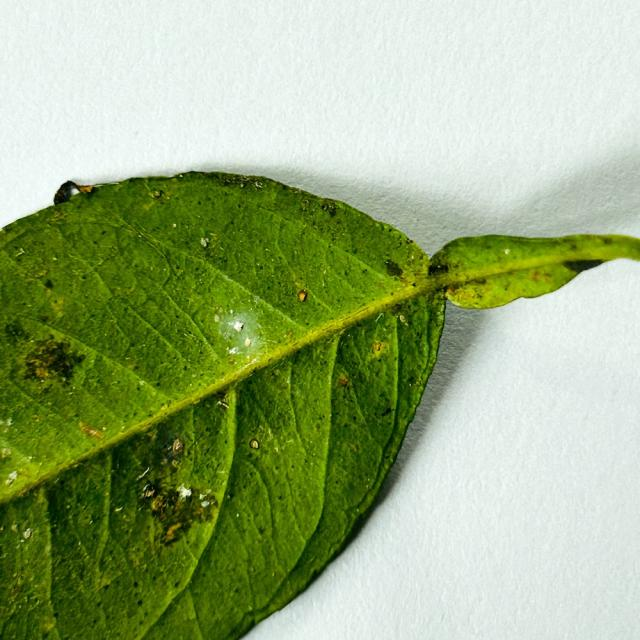Bacterial_Blight: (147, 482, 213, 544), (146, 488, 204, 541), (22, 338, 82, 383), (153, 424, 188, 469), (140, 482, 161, 503), (198, 491, 218, 513), (384, 259, 405, 278)
Lemon: (0, 172, 639, 639)
